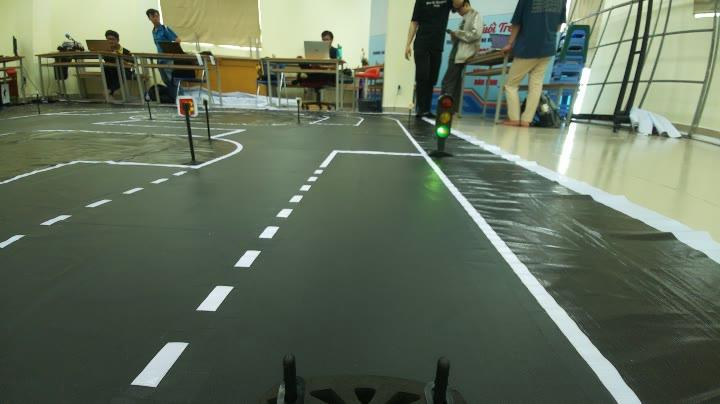trafficlight: (419, 88, 464, 164)
